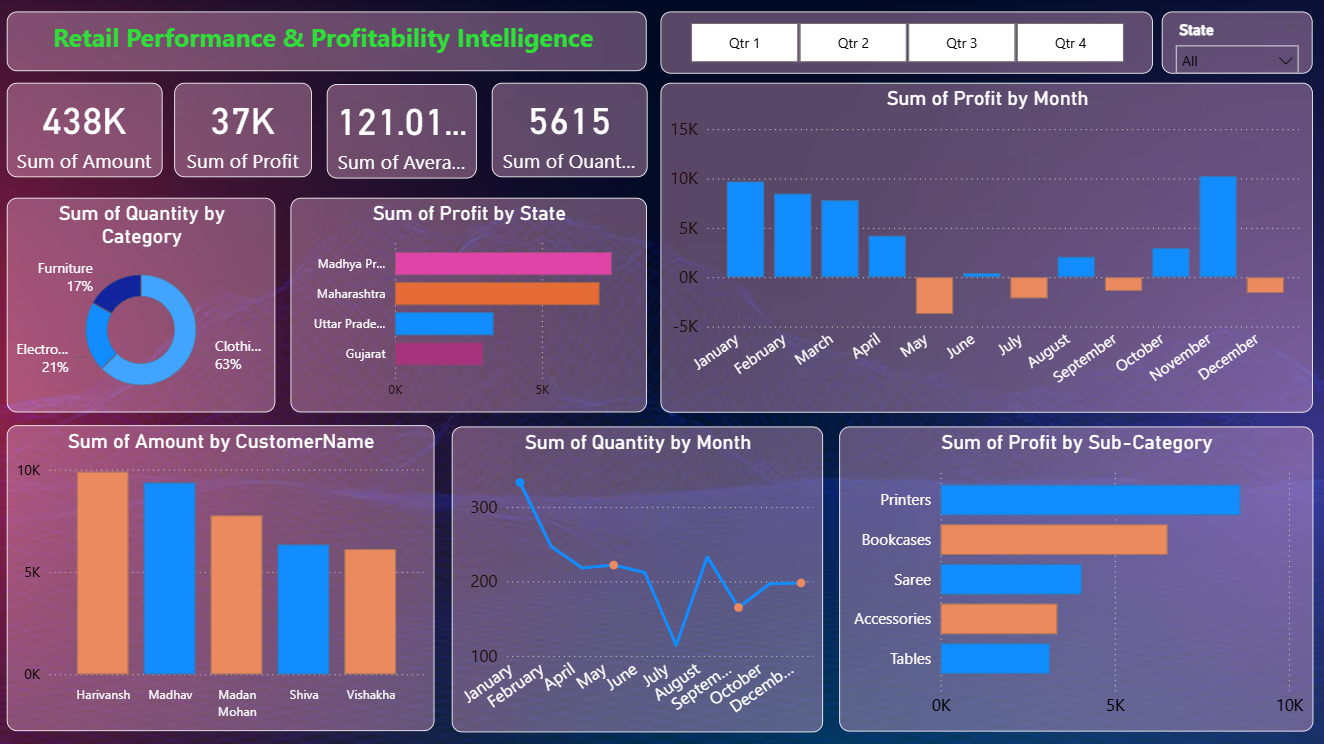

Layout of this report page (visuals, bound fields, positions):
{"tool":"powerbi","page":{"name":"Page 2","canvas":[1280,720],"ordinal":0},"visuals":[{"type":"textbox","box":[8.4,12.1,617.7,57.9],"z":0},{"type":"lineClusteredColumnComboChart","fields":{"Category":["Orders.Order Date.Variation.Date Hierarchy.Month"],"Y":["Details.Profit"]},"box":[639.4,80.8,629.8,318.5],"z":1000},{"type":"barChart","fields":{"Category":["Details.Sub-Category"],"Y":["Details.Profit"]},"box":[811.9,412.6,457.2,294.4],"z":2000},{"type":"donutChart","fields":{"Y":["Details.Quantity"],"Category":["Details.Category"]},"box":[8.4,191.8,259.4,207.5],"z":3000},{"type":"card","fields":{"Values":["Details.Amount"]},"box":[8.8,81.2,150,91.2],"z":4000},{"type":"barChart","fields":{"Category":["Orders.State"],"Y":["Details.Profit"]},"box":[282.3,191.8,343.8,207.5],"z":5000},{"type":"card","fields":{"Values":["Details.Profit"]},"box":[170,81.2,132.5,91.2],"z":6000},{"type":"card","fields":{"Values":["Details.Average "]},"box":[317.5,82.5,145,91.2],"z":7000},{"type":"card","fields":{"Values":["Details.Quantity"]},"box":[476.2,81.2,150,91.2],"z":8000},{"type":"clusteredColumnChart","fields":{"Category":["Orders.CustomerName"],"Y":["Details.Amount"]},"box":[8.4,411.4,412.6,295.6],"z":9000},{"type":"slicer","fields":{"Values":["Orders.Order Date.Variation.Date Hierarchy.Quarter"]},"box":[640,12.5,475,60],"z":10000},{"type":"slicer","fields":{"Values":["Orders.State"]},"box":[1123.2,12.1,146,60.3],"z":11000},{"type":"lineChart","fields":{"Y":["Details.Quantity"],"Category":["Orders.Order Date.Variation.Date Hierarchy.Month"]},"box":[437.9,412.6,358.3,295.6],"z":12000}]}

Visuals, with their boxes in screenshot pixels (x1, y1, x2, y2), scaled from the page's 1280x720 canvas onto the 1324x744 screenshot:
textbox: x1=9 y1=13 x2=648 y2=72
lineClusteredColumnComboChart - Orders.Order Date.Variation.Date Hierarchy.Month x Details.Profit: x1=661 y1=83 x2=1313 y2=413
barChart - Details.Sub-Category x Details.Profit: x1=840 y1=426 x2=1313 y2=731
donutChart - Details.Quantity x Details.Category: x1=9 y1=198 x2=277 y2=413
card - Details.Amount: x1=9 y1=84 x2=164 y2=178
barChart - Orders.State x Details.Profit: x1=292 y1=198 x2=648 y2=413
card - Details.Profit: x1=176 y1=84 x2=313 y2=178
card - Details.Average : x1=328 y1=85 x2=478 y2=179
card - Details.Quantity: x1=493 y1=84 x2=648 y2=178
clusteredColumnChart - Orders.CustomerName x Details.Amount: x1=9 y1=425 x2=435 y2=731
slicer - Orders.Order Date.Variation.Date Hierarchy.Quarter: x1=662 y1=13 x2=1153 y2=75
slicer - Orders.State: x1=1162 y1=13 x2=1313 y2=75
lineChart - Details.Quantity x Orders.Order Date.Variation.Date Hierarchy.Month: x1=453 y1=426 x2=824 y2=732
